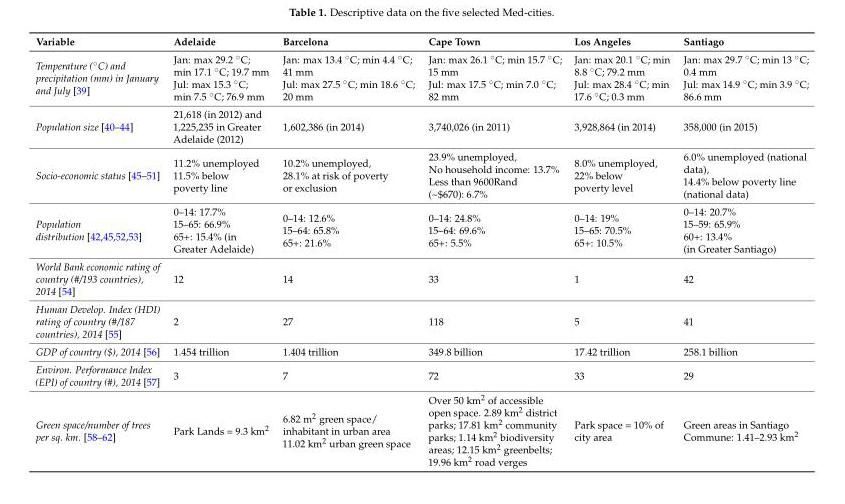table: (34, 34, 808, 467)
table column: (420, 34, 567, 467), (274, 34, 420, 467), (675, 34, 808, 467), (34, 34, 165, 467), (165, 34, 274, 467), (567, 34, 675, 467)
table column header: (34, 34, 808, 49)
table row: (34, 389, 808, 467), (34, 49, 808, 105), (34, 147, 808, 202), (34, 202, 808, 257), (34, 299, 808, 342), (34, 105, 808, 147), (34, 257, 808, 299), (34, 360, 808, 389), (34, 342, 808, 360), (34, 34, 808, 49)
